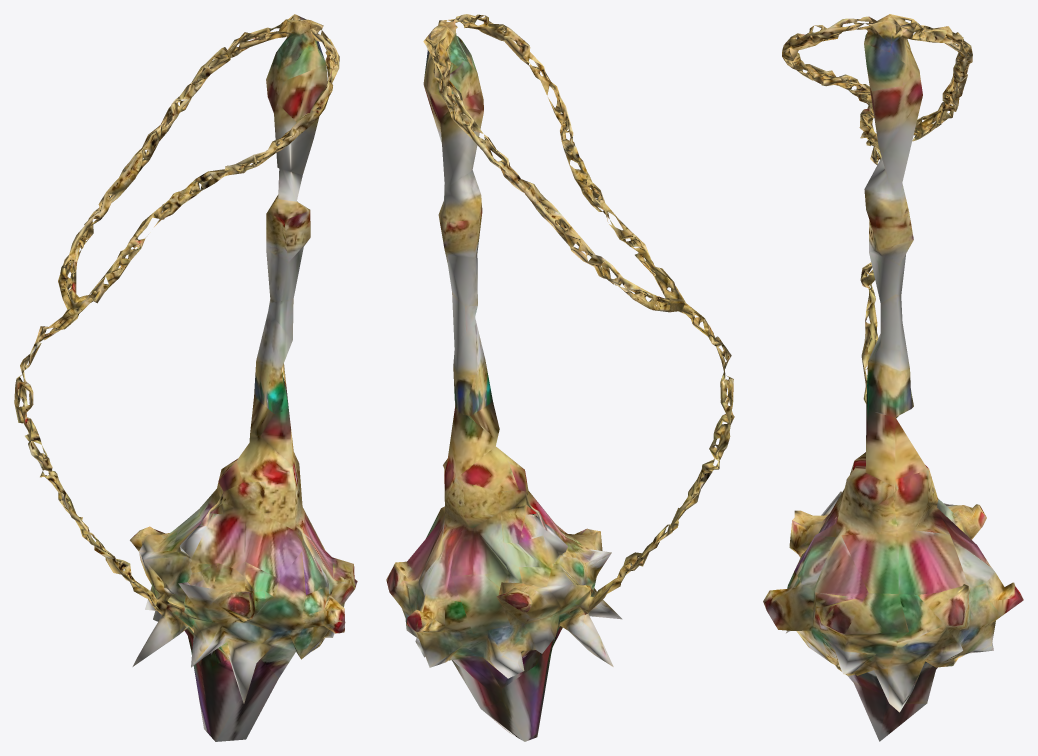
File: 1563_flail.glb
The picture shows the model from 3 angles, left to right: view 1: azimuth 30°, elevation 25°; view 2: azimuth 150°, elevation 25°; view 3: azimuth 270°, elevation 25°; orthographic projection. The views are drawn at different scales.
Visible parts, largest first — view 1: Model; view 2: Model; view 3: Model.
Boxes of the visible parts, <box> form: Model: <box>14,14,357,741</box>; Model: <box>386,14,734,741</box>; Model: <box>763,14,1023,741</box>.
Bounding box in the file's own units: 0.4842 × 1 × 0.3118.
Materials: 1 (1 with a texture image).
